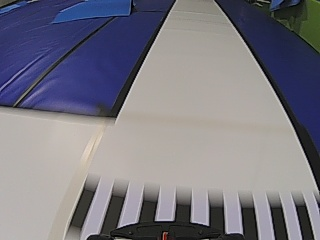CrossWalk: (73, 194, 313, 220)
